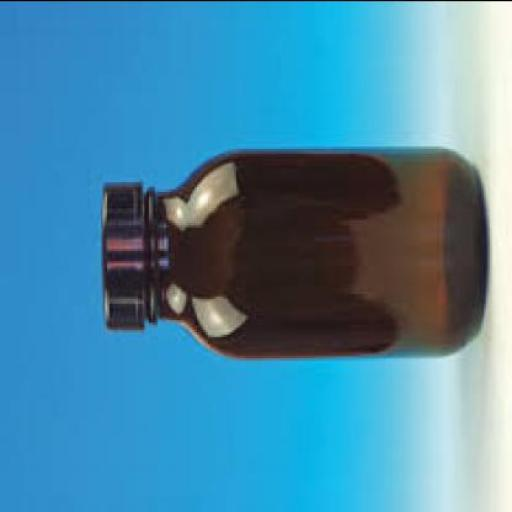glass: (144, 148, 486, 359)
metal: (101, 186, 153, 336)
